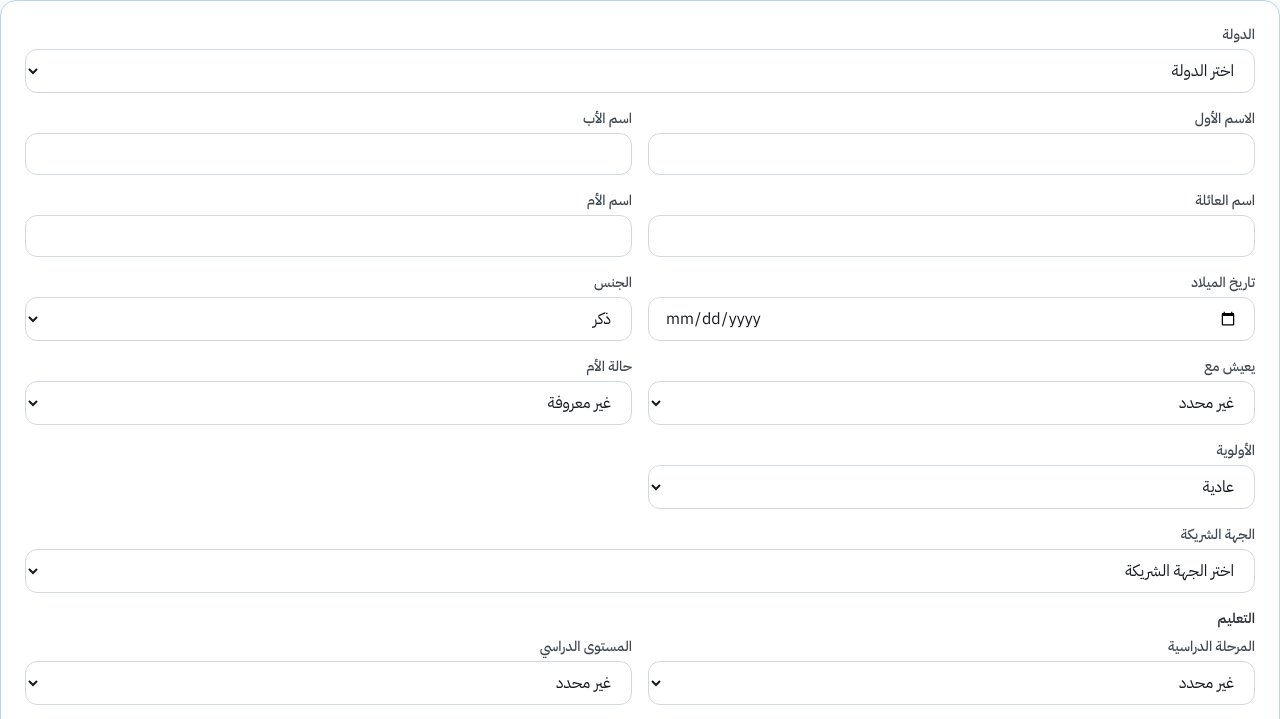
Test: NewOrphanForm — conditional home address (staff path) › hides the section until lives_with is a family-residence value
Expected: the text "عنوان السكن" is not shown
Select "الأم" in the dropdown labelled "يعيش مع": (952, 403) [648,381,1255,425]
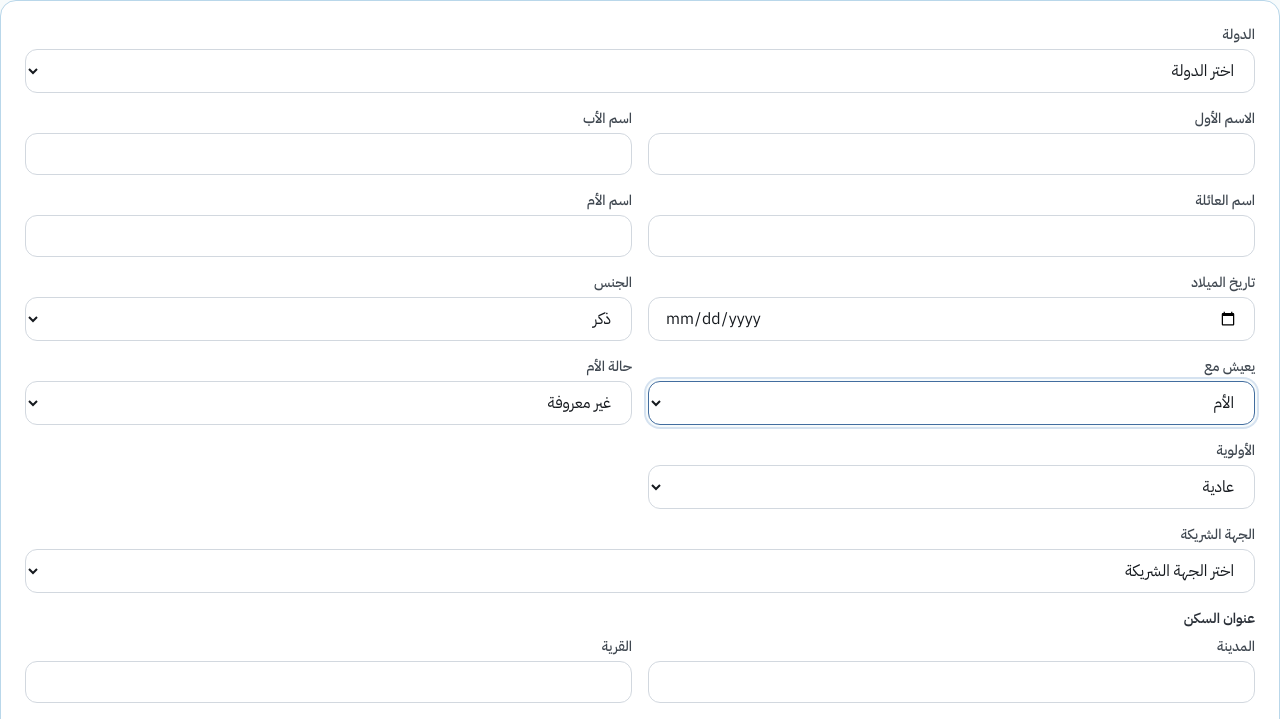
Expected: the text "عنوان السكن" is shown, [1184,609,1255,629]
Expected: the field labelled "المدينة" is shown, [648,661,1255,703]
